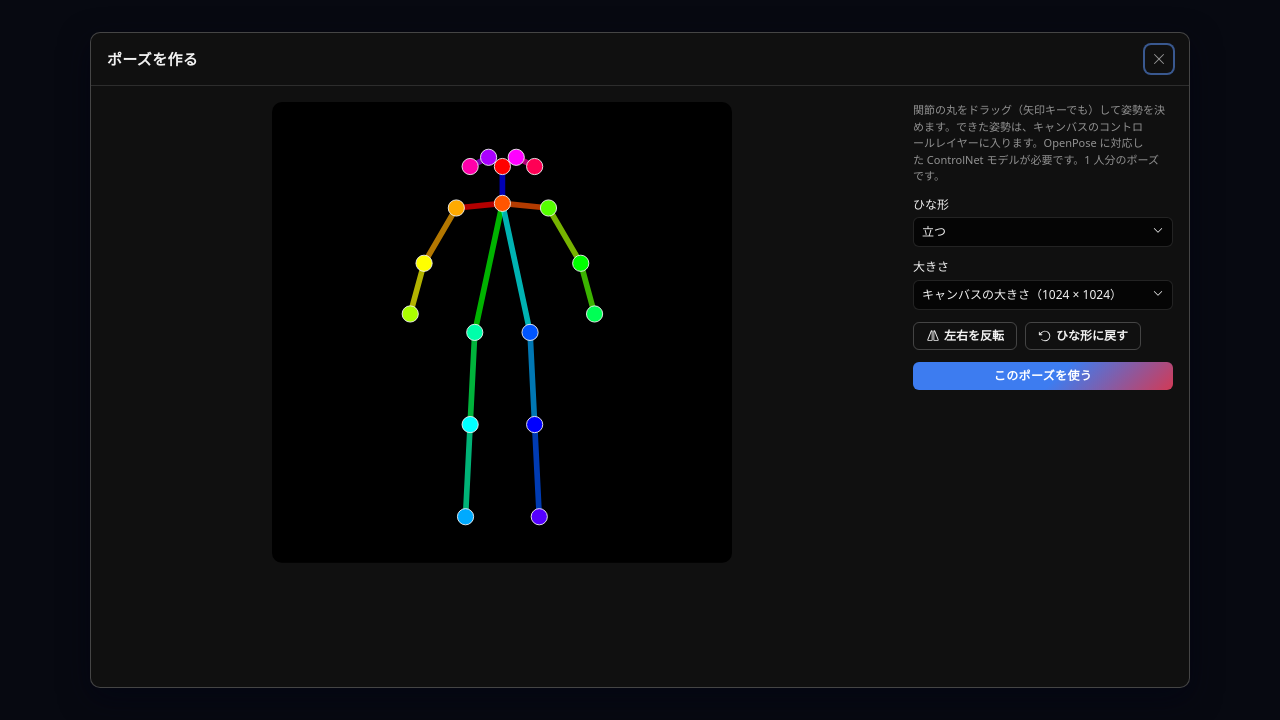
Scenario: using the pose › fails when there is no 2D context
The width and height of the screenshot is (1280, 720).
Expected: the element with test id "pose-dialog" is shown, x1=272 y1=102 x2=1173 y2=563
Click the button with test id "pose-use" at (1043, 376), box x1=913 y1=362 x2=1173 y2=390
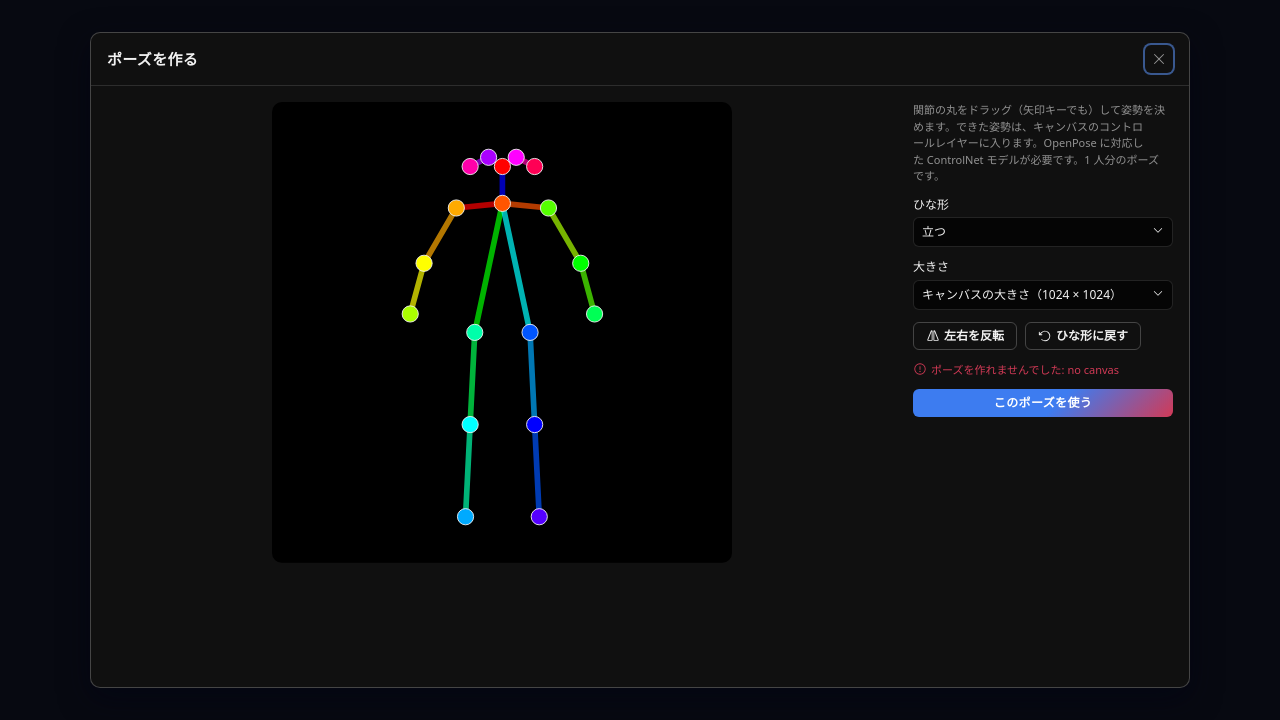
Expected: the message shows "no canvas", x1=1067 y1=362 x2=1119 y2=377
